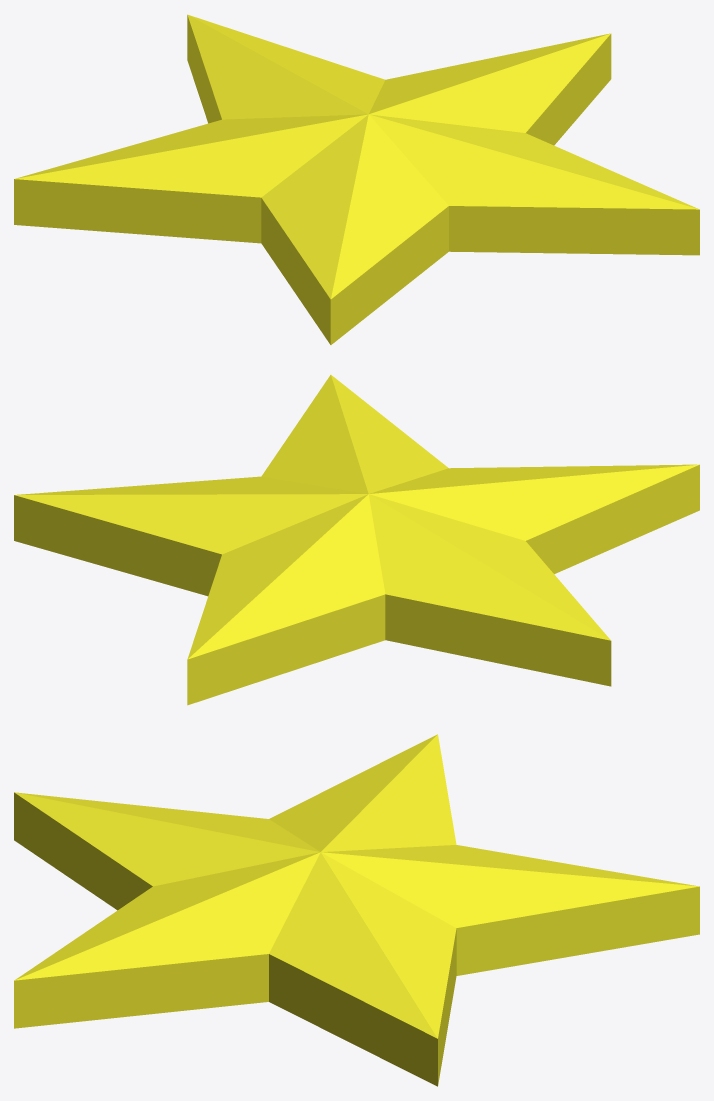
File: star.gltf
3 renders of one model, top to bottom at view 1: azimuth 30°, elevation 25°; view 2: azimuth 150°, elevation 25°; view 3: azimuth 270°, elevation 25°, orthographic. The views are drawn at different scales.
Visible parts, largest first — view 1: Circle; view 2: Circle; view 3: Circle.
Part boxes in pixels (x1,y1,x2,y2): Circle: (14,14,699,344); Circle: (14,375,699,705); Circle: (14,734,699,1086).
Size of the model in its own units: 1.9 by 0.3393 by 1.81.
